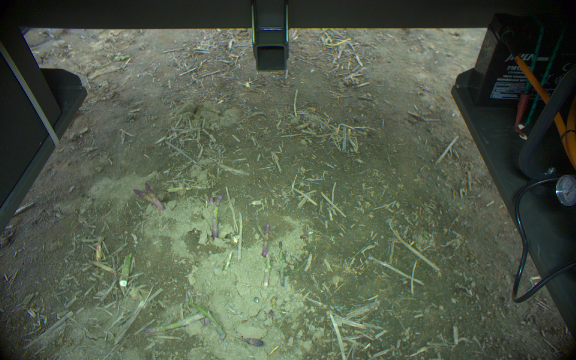aspa: (142, 310, 207, 336), (186, 298, 225, 339), (144, 182, 166, 209), (276, 240, 287, 288), (212, 196, 223, 240), (235, 334, 265, 350), (119, 251, 132, 287), (132, 187, 153, 207), (260, 223, 270, 256), (263, 253, 270, 286)
